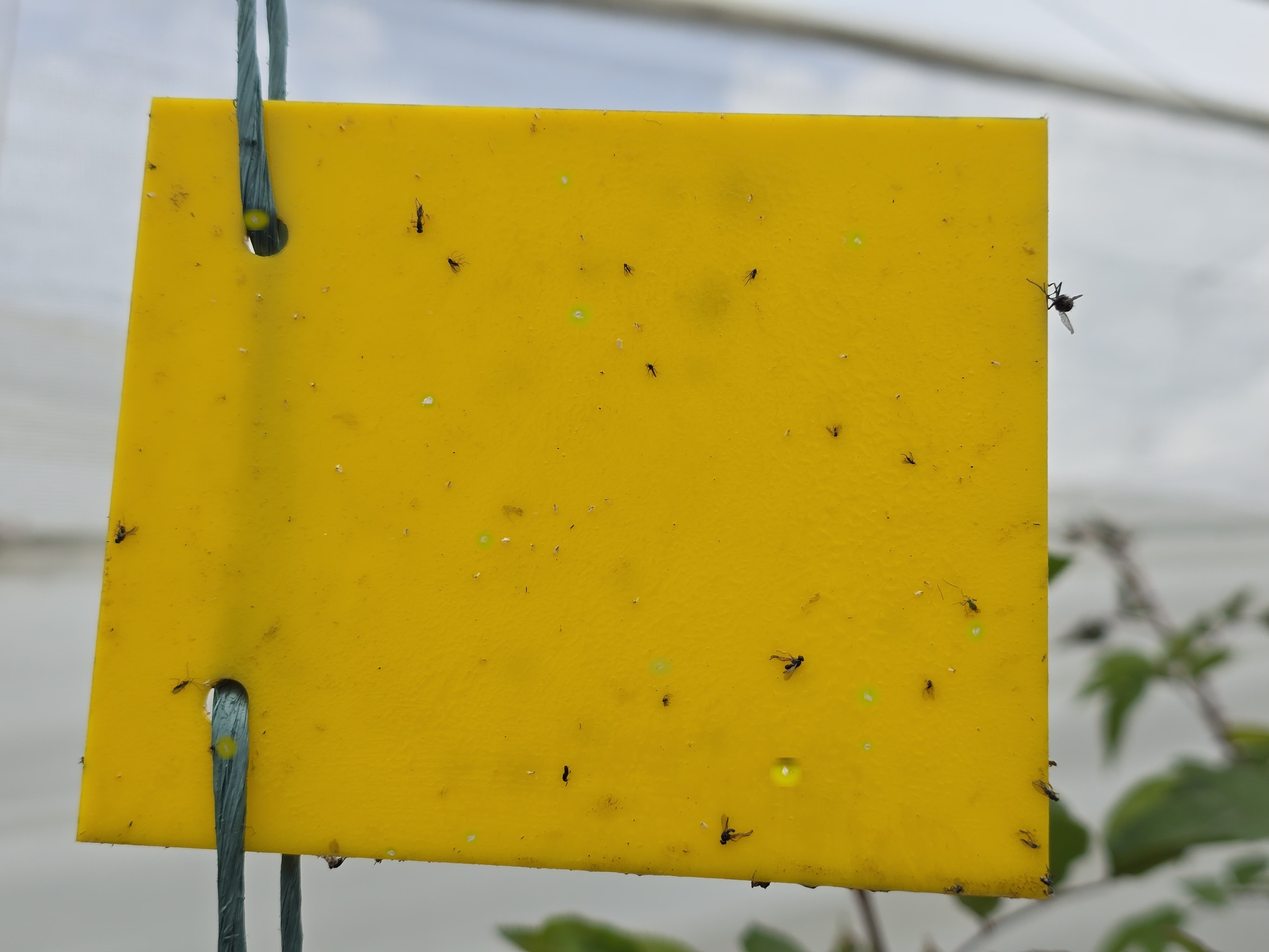WF: (774, 762, 797, 782), (569, 306, 589, 324), (858, 687, 878, 704), (245, 212, 266, 227), (846, 231, 864, 248), (218, 738, 234, 756), (968, 623, 983, 639), (651, 660, 669, 673), (477, 532, 492, 547), (557, 172, 571, 188), (616, 335, 627, 353), (420, 394, 435, 407), (464, 830, 478, 843), (332, 462, 346, 474), (500, 535, 513, 545), (238, 347, 251, 357), (861, 741, 873, 751), (914, 590, 926, 599), (989, 361, 1002, 369), (631, 596, 641, 606), (256, 291, 265, 301), (385, 848, 395, 857), (524, 769, 536, 776), (947, 667, 957, 675), (473, 571, 482, 579), (700, 822, 708, 830), (293, 313, 299, 322)
